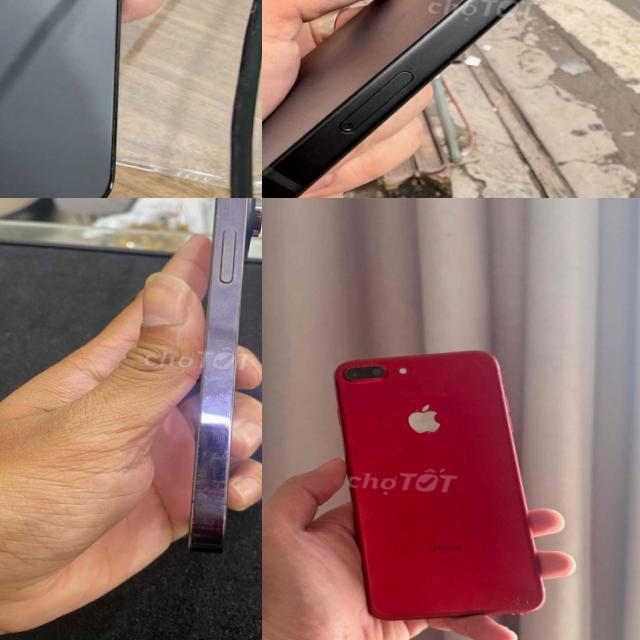scratch: (209, 198, 251, 280), (340, 361, 391, 385), (502, 594, 537, 616)
